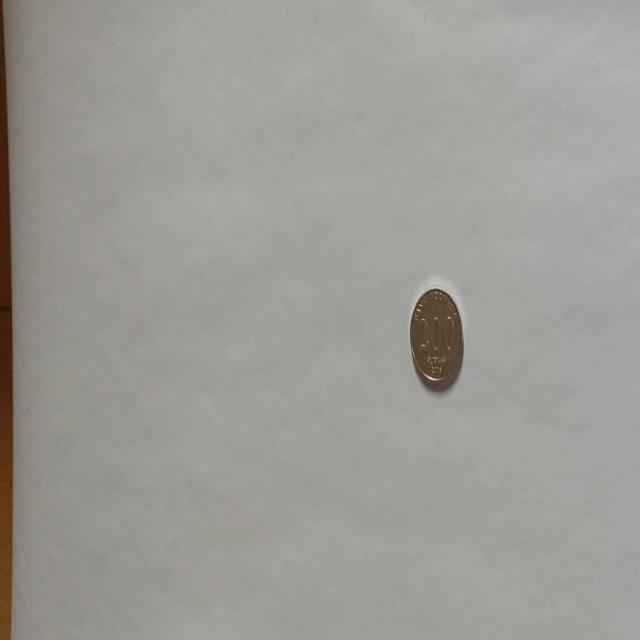dua ratus rupiah: (408, 286, 464, 390)
